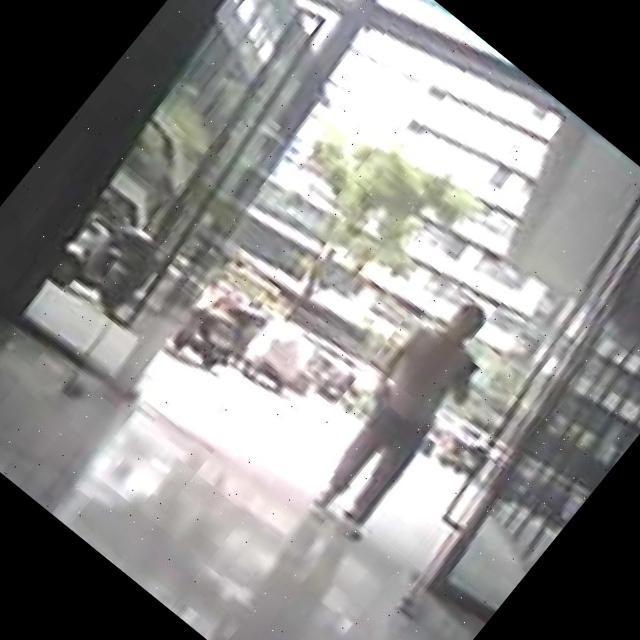person: (288, 283, 522, 542)
